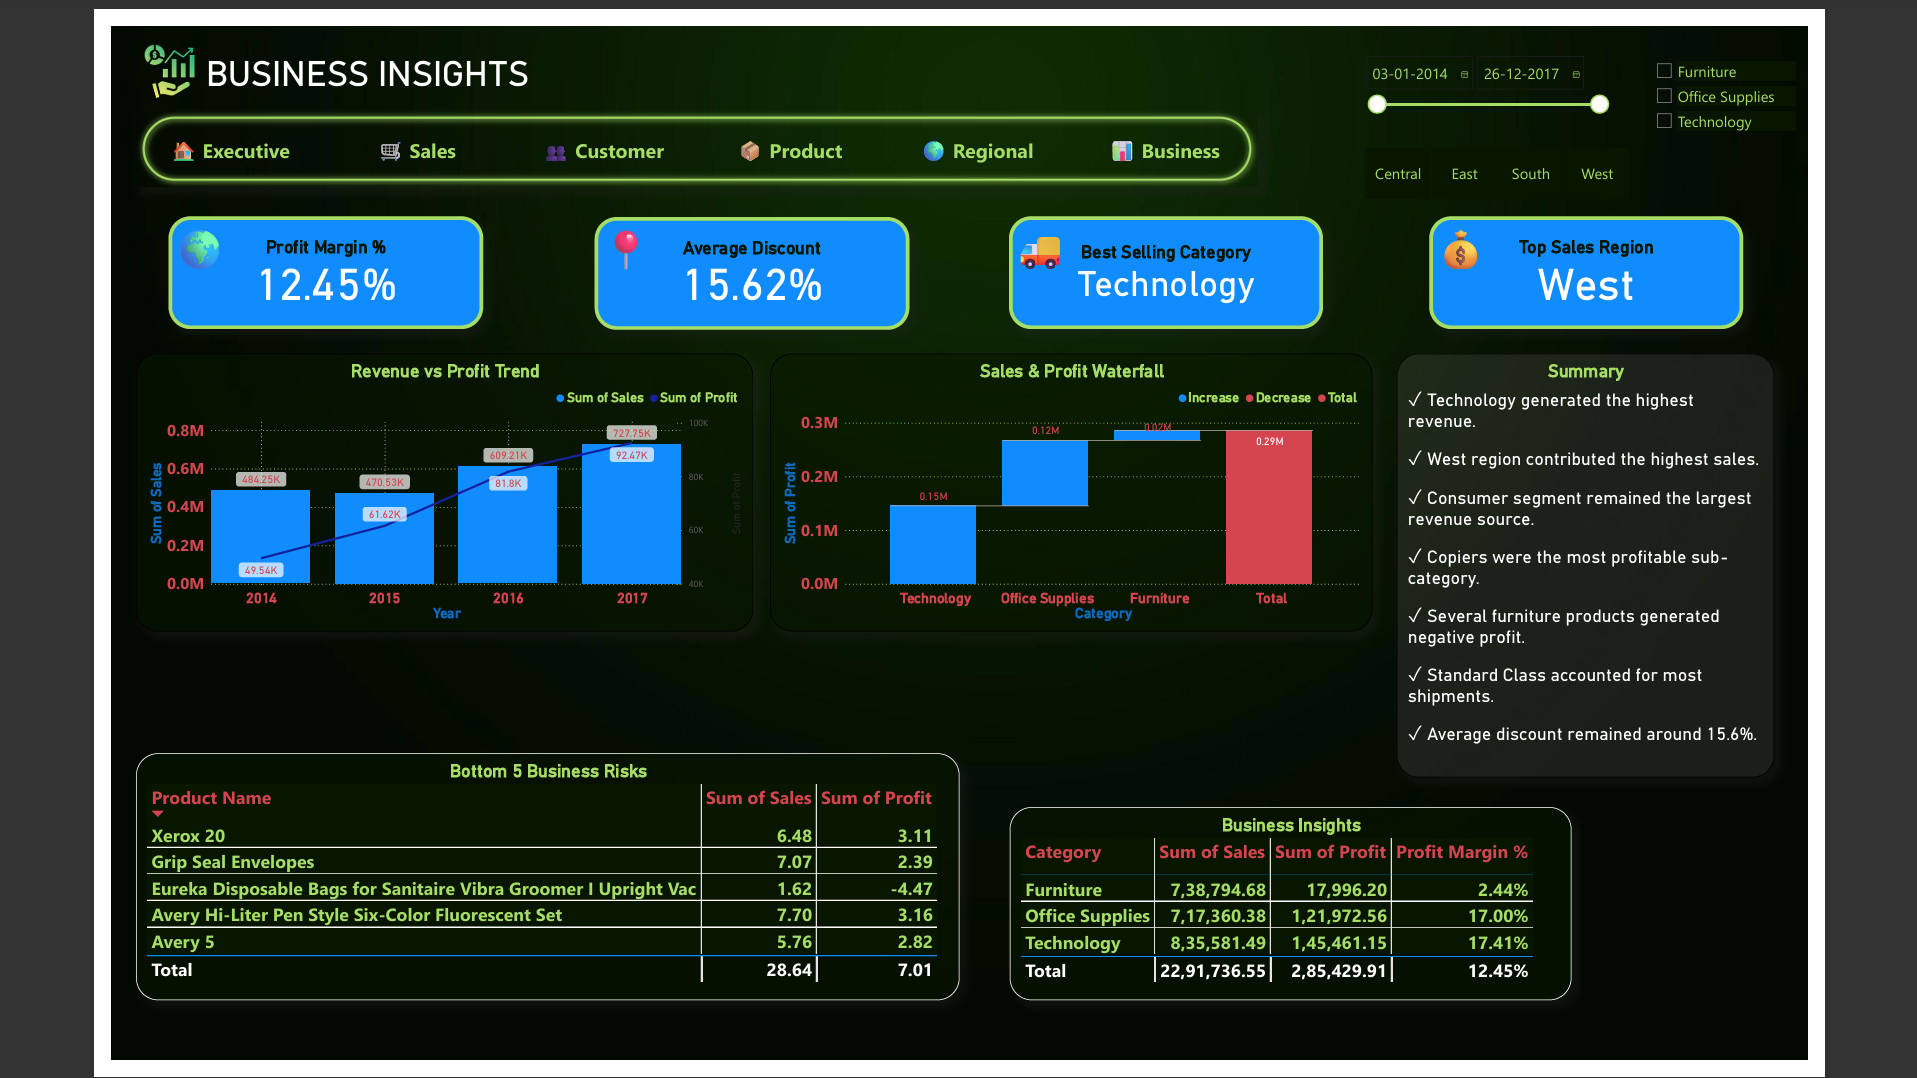

What the dashboard file says about the page in this screenshot:
{"tool":"powerbi","page":{"name":"Business Insights","canvas":[2300,1400],"ordinal":5},"visuals":[{"type":"group","id":"g1","title":"Group 2","box":[33.3,113.3,1523.3,103.3],"z":0},{"type":"actionButton","box":[33.3,113.3,1522.5,105],"z":0,"group":"g1"},{"type":"cardVisual","fields":{"Data":["Sample_ Superstore.Profit Margin %"]},"box":[76.7,256.7,426.7,153.3],"z":0,"group":"g3"},{"type":"cardVisual","fields":{"Data":["Sample_ Superstore.Average Discount"]},"box":[655,257.5,426.7,153.3],"z":0,"group":"g4"},{"type":"actionButton","box":[33.3,117,254.7,101.3],"z":1000,"group":"g2"},{"type":"cardVisual","fields":{"Data":["Sample_ Superstore.Best Selling Category"]},"box":[1216.7,256.7,426.7,153.3],"z":1000},{"type":"textbox","box":[77.8,257.8,426.7,90],"z":1000,"group":"g3"},{"type":"textbox","box":[656.1,258.6,426.7,90],"z":1000,"group":"g4"},{"type":"actionButton","box":[287.3,117,253.3,101.3],"z":2000,"group":"g2"},{"type":"cardVisual","fields":{"Data":["Sample_ Superstore.Top Sales Region"]},"box":[1786.7,256.7,426.7,153.3],"z":2000},{"type":"actionButton","box":[541,117,252.5,101.3],"z":3000,"group":"g2"},{"type":"textbox","box":[1217.8,257.8,426.7,90],"z":3000},{"type":"group","id":"g2","title":"Group 1","box":[33.3,117,1522.5,101.3],"z":3004,"group":"g1"},{"type":"image","box":[32.5,23.3,90,75],"z":4000},{"type":"actionButton","box":[793.4,117,252.5,101.3],"z":4000,"group":"g2"},{"type":"actionButton","box":[1047.1,117,253.3,101.3],"z":5000,"group":"g2"},{"type":"textbox","box":[1787.8,257.8,426.7,83.3],"z":5000},{"type":"textbox","box":[122.5,30,1065,75],"z":6000},{"type":"actionButton","box":[1301.1,117,254.7,101.3],"z":6000,"group":"g2"},{"type":"slicer","fields":{"Values":["Sample_ Superstore.Order Date"]},"box":[1687.5,30,352.5,97.5],"z":7000},{"type":"slicer","fields":{"Values":["Sample_ Superstore.Region"]},"box":[1675,157.5,407.5,82.5],"z":8000},{"type":"slicer","fields":{"Values":["Sample_ Superstore.Category"]},"box":[2082.5,37.5,207.5,152.5],"z":9000},{"type":"group","id":"g3","title":"Group 3","box":[76.7,256.7,427.8,153.3],"z":10000},{"type":"group","id":"g4","title":"Group 3","box":[655,257.5,425,152.5],"z":11000},{"type":"waterfallChart","title":"Sales & Profit Waterfall","fields":{"Category":["Sample_ Superstore.Category"],"Y":["Sum(Sample_ Superstore.Profit)"]},"box":[892.5,442.5,817.5,377.5],"z":12000},{"type":"lineClusteredColumnComboChart","title":"Revenue vs Profit Trend","fields":{"Y2":["Sum(Sample_ Superstore.Profit)"],"Y":["Sum(Sample_ Superstore.Sales)"],"Category":["Sample_ Superstore.Order Date.Variation.Date Hierarchy.Year"]},"box":[32.5,442.5,837.5,377.5],"z":13000},{"type":"tableEx","title":"Business Insights","fields":{"Values":["Sample_ Superstore.Category","Sum(Sample_ Superstore.Sales)","Sum(Sample_ Superstore.Profit)","Sample_ Superstore.Profit Margin %"]},"box":[1217.5,1057.5,762.5,262.5],"z":14000},{"type":"tableEx","title":"Bottom 5 Business Risks","fields":{"Values":["Sample_ Superstore.Product Name","Sum(Sample_ Superstore.Sales)","Sum(Sample_ Superstore.Profit)"]},"box":[32.5,985,1117.5,335],"z":15000},{"type":"textbox","title":"Summary","box":[1742.5,442.5,512.5,575],"z":16000}]}

Visuals, with their boxes on the page's 2300x1400 design canvas (x1, y1, x2, y2). These are canvas units, not pixel positions in the 1917x1078 screenshot, which may show the page scaled, cropped or inside an application window:
"Group 2" group: [33,113,1557,217]
actionButton: [33,113,1556,218]
cardVisual - Sample_ Superstore.Profit Margin %: [77,257,503,410]
cardVisual - Sample_ Superstore.Average Discount: [655,258,1082,411]
actionButton: [33,117,288,218]
cardVisual - Sample_ Superstore.Best Selling Category: [1217,257,1643,410]
textbox: [78,258,504,348]
textbox: [656,259,1083,349]
actionButton: [287,117,541,218]
cardVisual - Sample_ Superstore.Top Sales Region: [1787,257,2213,410]
actionButton: [541,117,794,218]
textbox: [1218,258,1644,348]
"Group 1" group: [33,117,1556,218]
image: [32,23,122,98]
actionButton: [793,117,1046,218]
actionButton: [1047,117,1300,218]
textbox: [1788,258,2214,341]
textbox: [122,30,1188,105]
actionButton: [1301,117,1556,218]
slicer - Sample_ Superstore.Order Date: [1688,30,2040,128]
slicer - Sample_ Superstore.Region: [1675,158,2082,240]
slicer - Sample_ Superstore.Category: [2082,38,2290,190]
"Group 3" group: [77,257,504,410]
"Group 3" group: [655,258,1080,410]
"Sales & Profit Waterfall" waterfallChart: [892,442,1710,820]
"Revenue vs Profit Trend" lineClusteredColumnComboChart: [32,442,870,820]
"Business Insights" tableEx: [1218,1058,1980,1320]
"Bottom 5 Business Risks" tableEx: [32,985,1150,1320]
"Summary" textbox: [1742,442,2255,1018]
